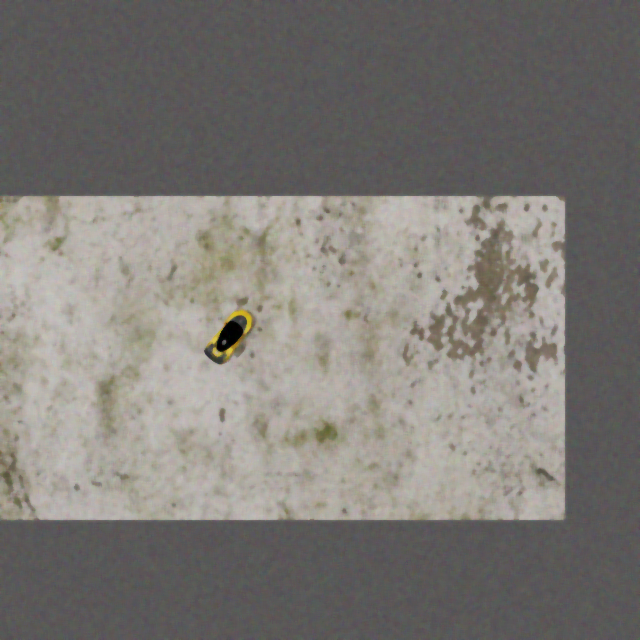car: (200, 303, 259, 368)
